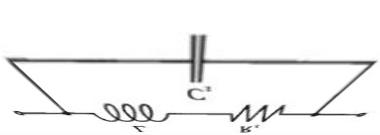inductor: (84, 101, 178, 121)
